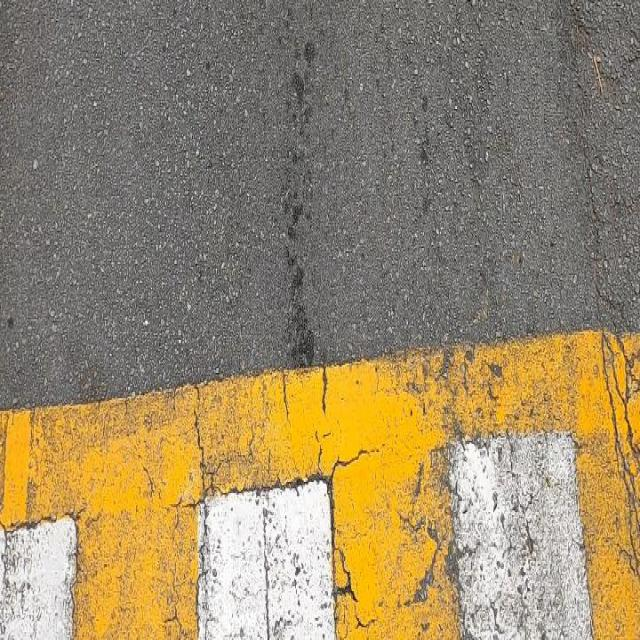cracks: (150, 320, 400, 640), (546, 36, 640, 640)
